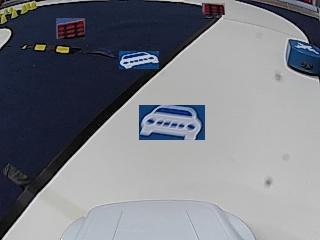prop: (286, 38, 319, 75)
